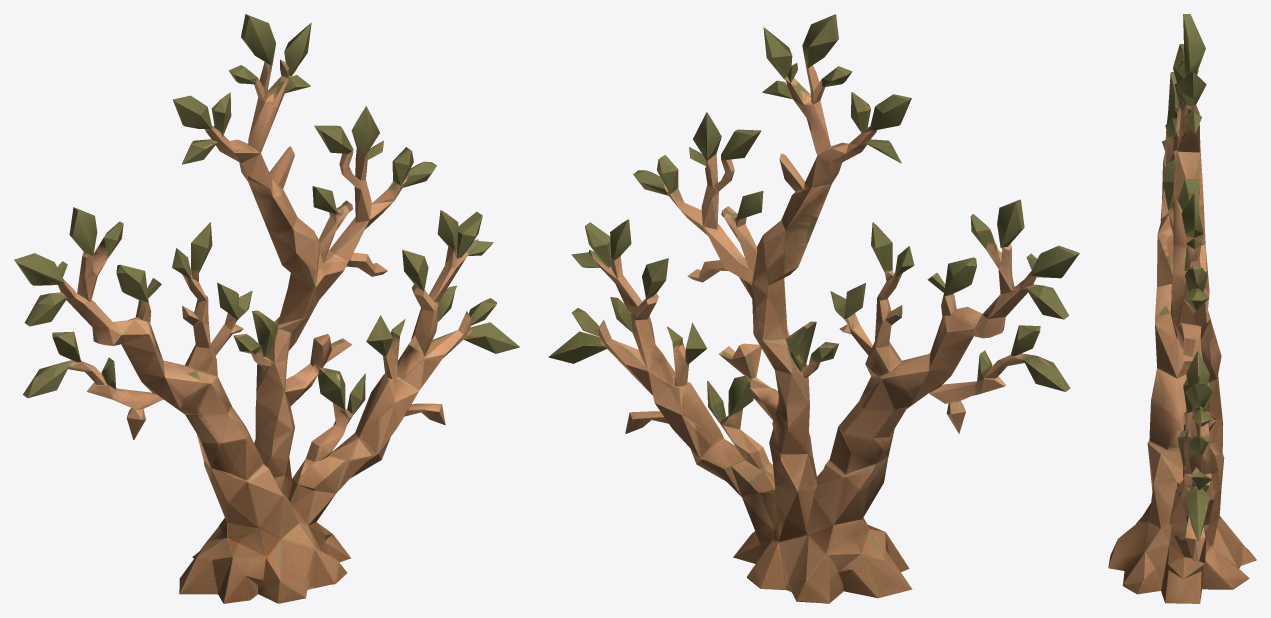
The model's file is dry-bush.glb.
The picture shows the model from 3 angles, left to right: view 1: azimuth 30°, elevation 25°; view 2: azimuth 150°, elevation 25°; view 3: azimuth 270°, elevation 25°; orthographic projection. The views are drawn at different scales.
Size of the model in its own units: 1.84 by 1.9 by 0.4689.
Materials: 1 (1 with a texture image).
